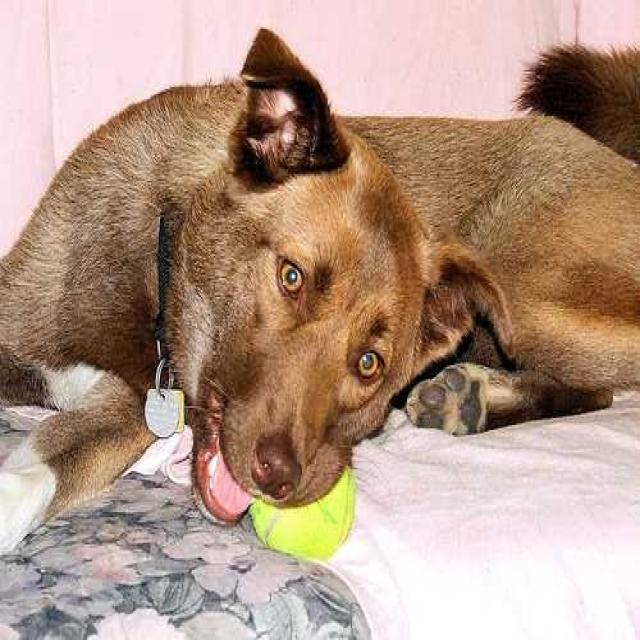Tennis_Ball: (251, 466, 354, 552)
